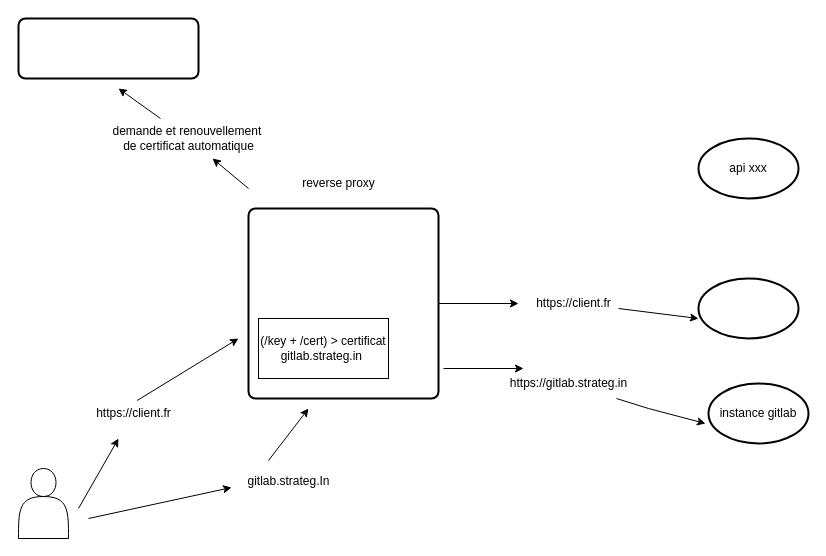
The diagram is 826 pixels wide and 556 high, and some of its shapes have lost their labels. Here are the shapes that lost their labels. From the top down, the centre of each, then its label:
At point 108,48: "fournisseur de certificat".
At point 748,308: "app client".
